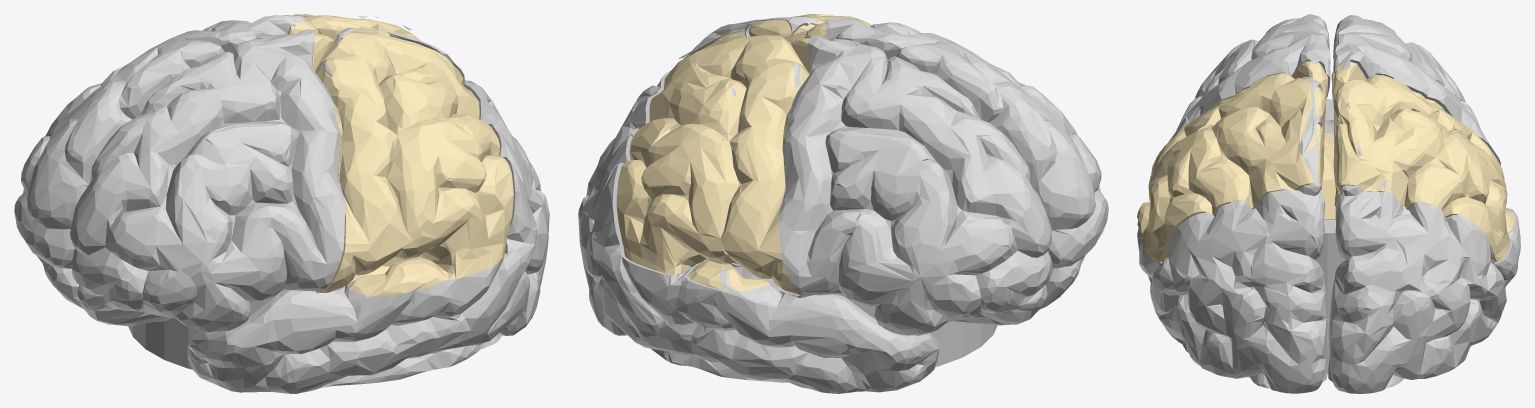
Rendered from tinker.obj.
3 views of the same model, side by side, from view 1: azimuth 30°, elevation 25°; view 2: azimuth 150°, elevation 25°; view 3: azimuth 270°, elevation 25° (orthographic). The views are drawn at different scales.
Visible parts, largest first — view 1: group_0_16448250, group_0_16311991; view 2: group_0_16448250, group_0_16311991; view 3: group_0_16448250, group_0_16311991.
Boxes of the visible parts, x1,y1,x2,y2 form: group_0_16448250: (14, 14, 549, 393); group_0_16311991: (285, 14, 513, 296); group_0_16448250: (578, 16, 1108, 393); group_0_16311991: (616, 14, 871, 295); group_0_16448250: (1137, 14, 1520, 393); group_0_16311991: (1137, 61, 1515, 261).
Size of the model in its own units: 51.58 by 30.31 by 42.62.
